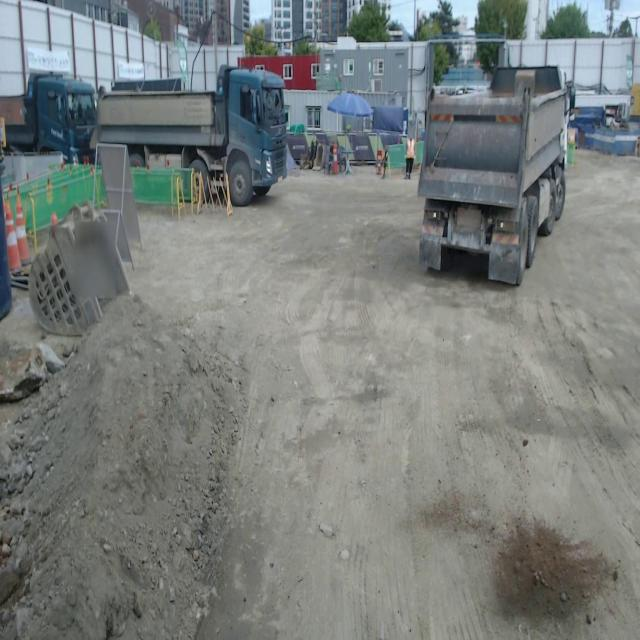white-sand: (130, 158, 640, 639), (0, 299, 246, 639)
